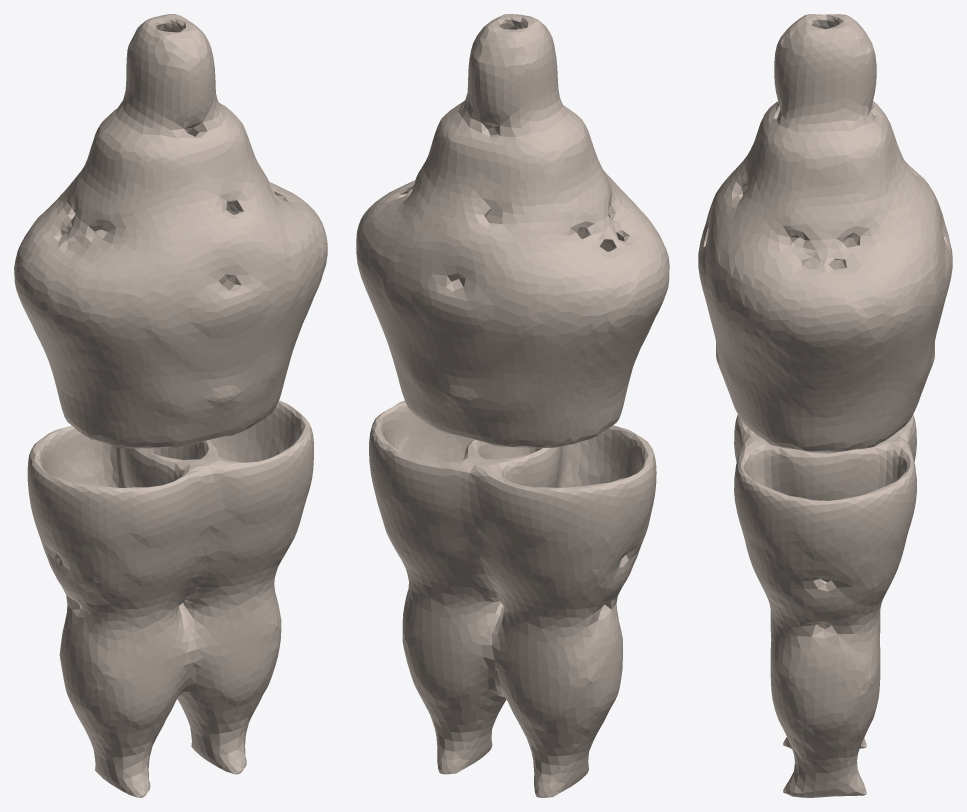
Rendered from body_mesh.glb.
3 renders of one model, left to right at view 1: azimuth 30°, elevation 25°; view 2: azimuth 150°, elevation 25°; view 3: azimuth 270°, elevation 25°, orthographic.
Parts seen in each view (by area): view 1: world; view 2: world; view 3: world.
Boxes of the visible parts, x1=… form: world: x1=14, y1=14, x2=327, y2=797; world: x1=356, y1=14, x2=669, y2=797; world: x1=698, y1=14, x2=952, y2=797.
Size of the model in its own units: 27.16 by 68.02 by 20.94.
